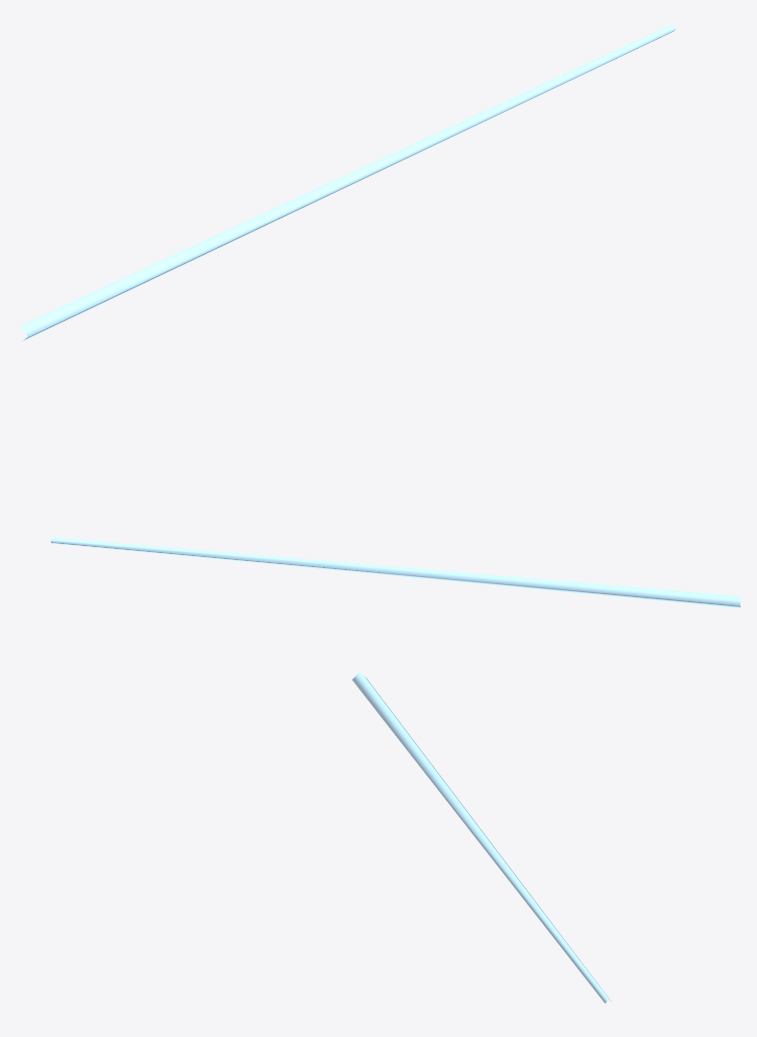
Rendered from ville_cos_fam_aile_fee.glb.
3 views of the same model, one above another, from view 1: azimuth 30°, elevation 25°; view 2: azimuth 150°, elevation 25°; view 3: azimuth 270°, elevation 25° (orthographic). The views are drawn at different scales.
Parts seen in each view (by area): view 1: cos_fam_aile_fee; view 2: cos_fam_aile_fee; view 3: cos_fam_aile_fee.
Boxes of the visible parts, box(x1,y1,x2,y2) form: cos_fam_aile_fee: box(21, 24, 675, 341); cos_fam_aile_fee: box(50, 537, 741, 608); cos_fam_aile_fee: box(352, 672, 611, 1003).
Bounding box in the file's own units: 0.4212 × 0.008 × 0.38.
